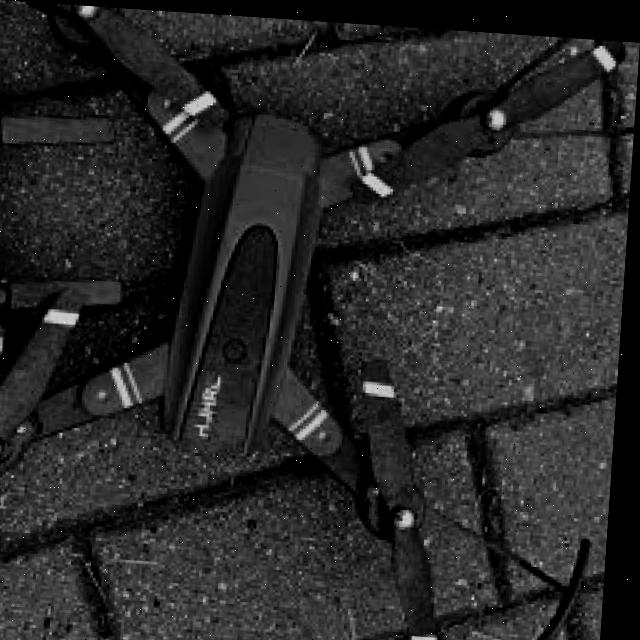drone: (0, 0, 600, 625)
